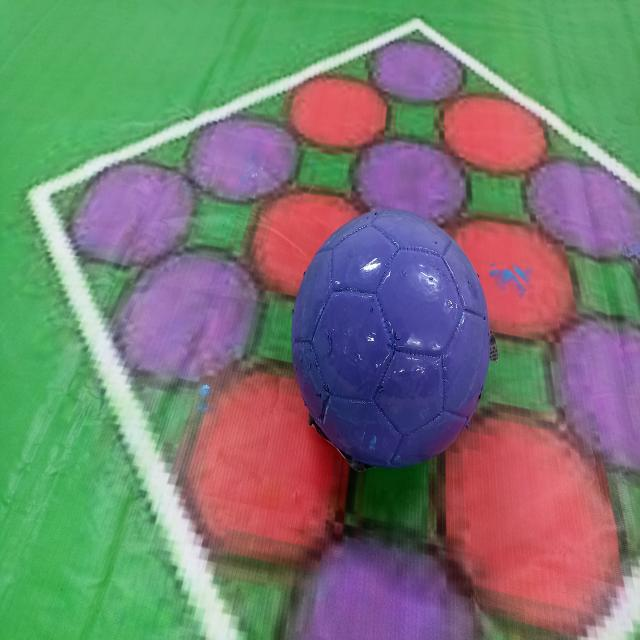purple_ball: (291, 209, 494, 478)
